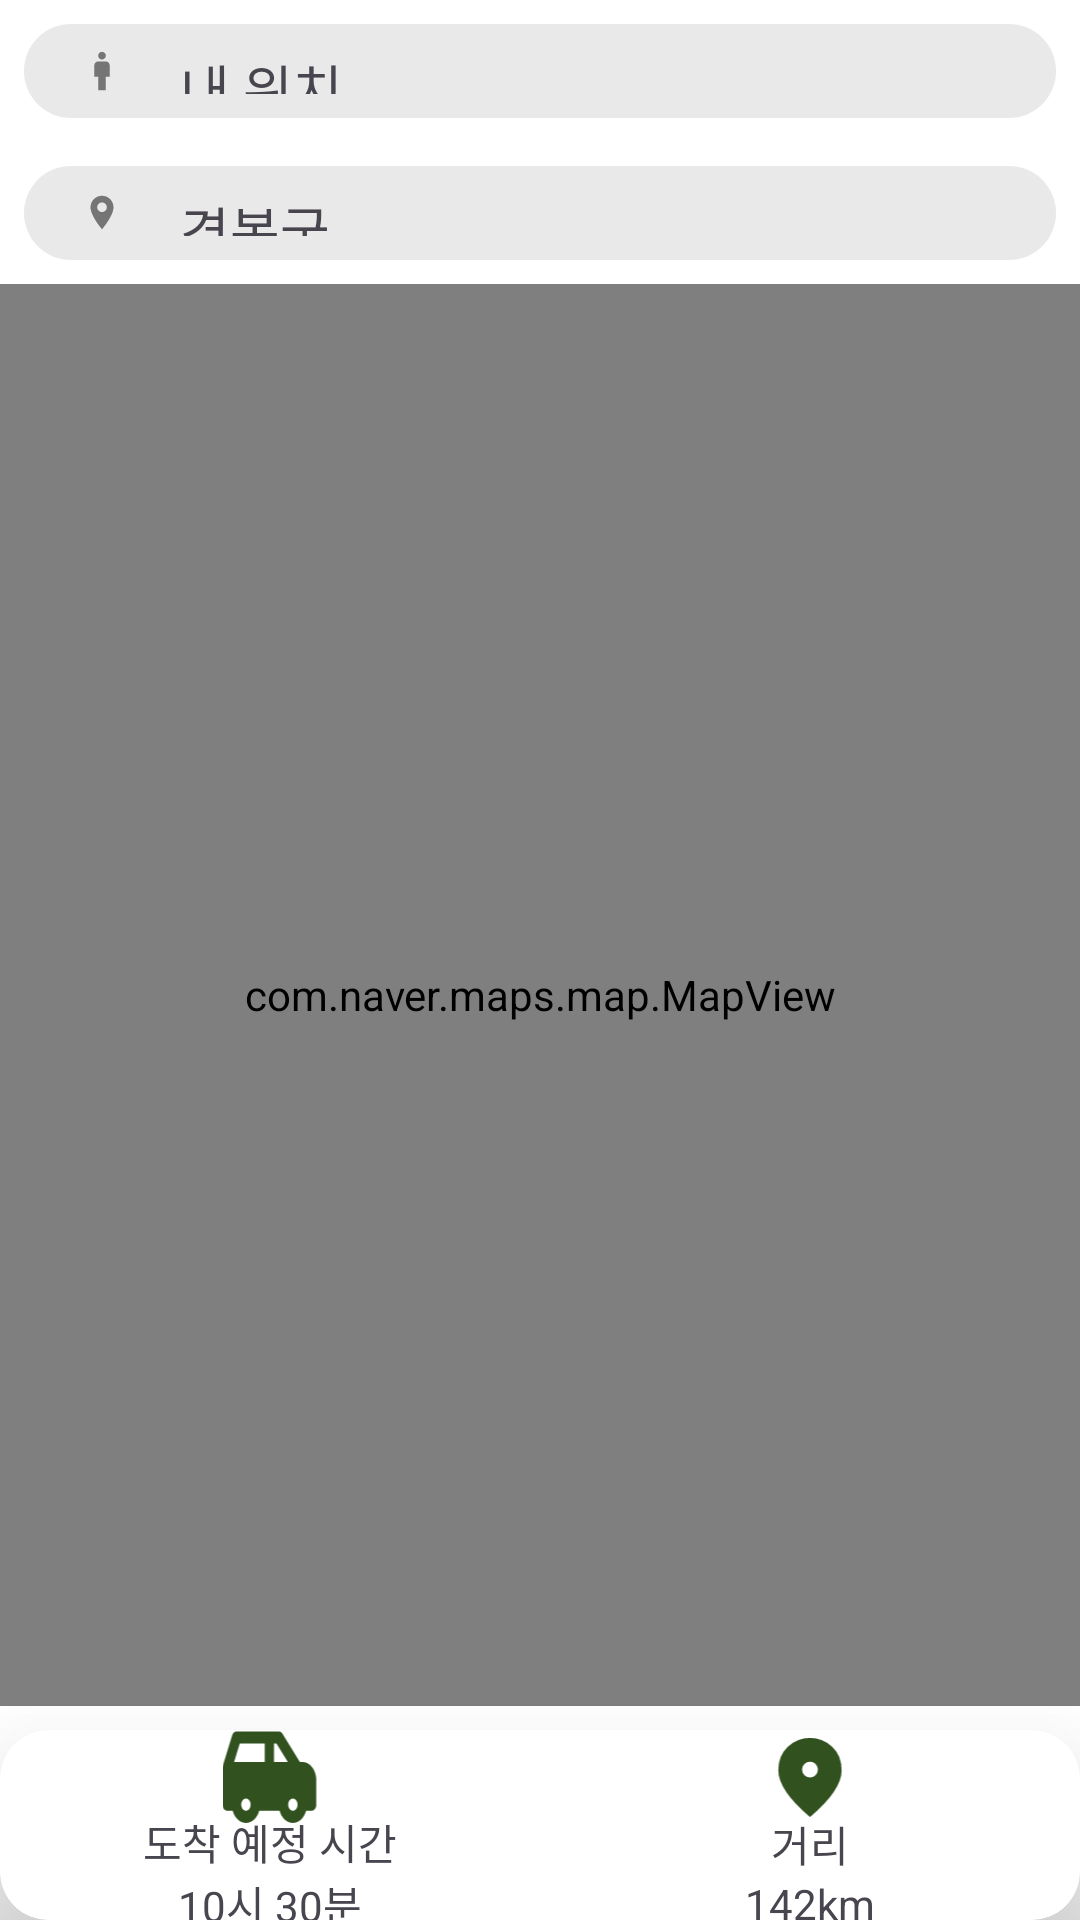

Point at icon controls on the screen. Image size 1080 x 1920, points as point (x, y).
navigate car: point (270, 1777)
symbols man: point (102, 71)
